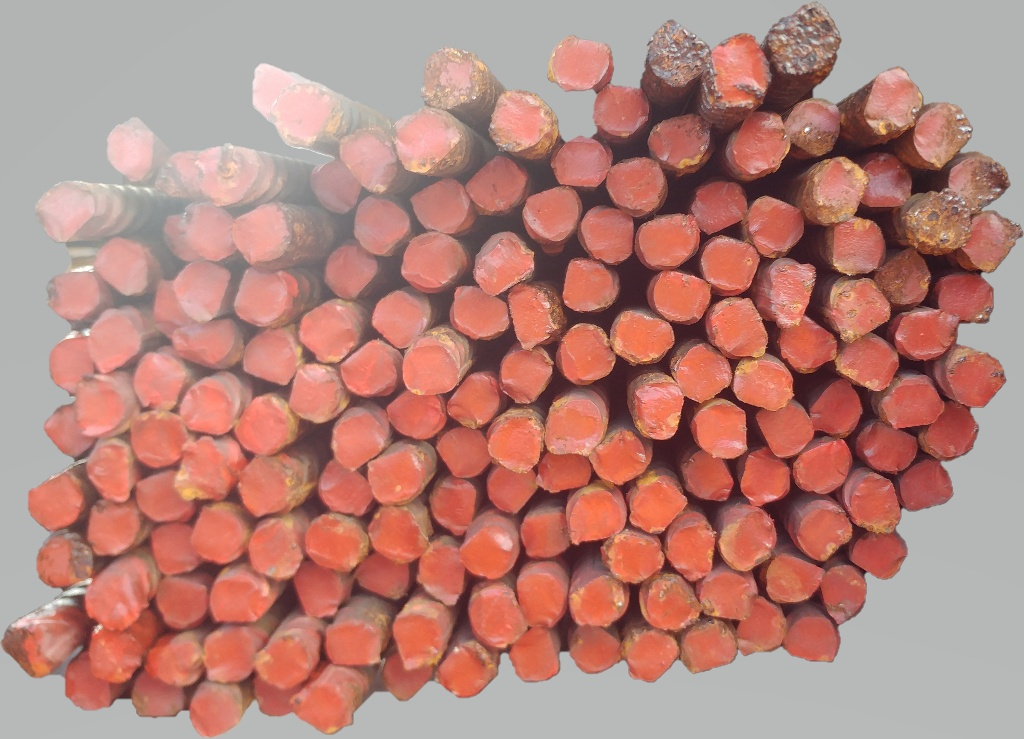dipstick: (771, 6, 877, 75), (709, 34, 770, 109), (392, 107, 458, 176), (178, 436, 244, 504), (420, 48, 490, 111), (1, 618, 67, 682), (962, 209, 1024, 275), (86, 568, 147, 634), (272, 85, 339, 145), (835, 331, 899, 393), (913, 104, 972, 171), (809, 154, 866, 223), (489, 91, 553, 152), (648, 21, 709, 85), (232, 266, 297, 326), (37, 178, 95, 244), (865, 67, 922, 134), (733, 110, 790, 176), (831, 279, 892, 340), (237, 396, 298, 456), (463, 156, 525, 215), (469, 587, 526, 651), (401, 232, 463, 290), (174, 260, 232, 322), (948, 157, 1012, 213), (235, 204, 293, 265), (300, 304, 358, 364), (908, 190, 966, 250), (676, 343, 733, 404), (197, 146, 259, 202), (608, 157, 667, 215), (410, 177, 470, 234), (242, 327, 299, 387), (559, 324, 616, 384), (474, 235, 535, 291), (749, 194, 804, 256), (649, 114, 712, 168), (948, 351, 1007, 408), (306, 516, 367, 571), (638, 216, 700, 270), (291, 364, 347, 423), (239, 456, 295, 515), (778, 318, 837, 374), (873, 247, 929, 306), (544, 400, 604, 455), (712, 299, 767, 359), (589, 428, 650, 482), (172, 323, 243, 369), (894, 308, 958, 359), (190, 680, 247, 737), (439, 644, 498, 699), (787, 95, 840, 156), (926, 398, 976, 462), (510, 283, 557, 351), (642, 575, 698, 632), (792, 439, 850, 494), (719, 511, 773, 570), (357, 195, 410, 255), (849, 529, 910, 581), (549, 39, 611, 90), (87, 627, 144, 682), (569, 490, 626, 545), (318, 460, 372, 518), (701, 238, 759, 292), (630, 479, 688, 533), (249, 521, 302, 580), (769, 260, 817, 325), (293, 687, 358, 735), (612, 313, 675, 362), (460, 524, 516, 579), (797, 506, 853, 561), (193, 508, 247, 565), (369, 508, 426, 562), (810, 379, 863, 437), (107, 117, 155, 181), (77, 374, 127, 435), (295, 559, 345, 620), (879, 382, 945, 428), (180, 204, 236, 258), (94, 238, 148, 294), (582, 206, 636, 262), (367, 453, 424, 506), (525, 187, 582, 240), (593, 85, 651, 137), (28, 474, 80, 532), (332, 412, 384, 470), (501, 347, 552, 406), (732, 361, 794, 409), (758, 401, 813, 455), (563, 259, 616, 315), (693, 180, 749, 233), (850, 476, 903, 532), (938, 272, 994, 325), (134, 352, 186, 409), (138, 471, 195, 523), (653, 271, 710, 323), (34, 537, 93, 587), (743, 446, 792, 506), (420, 543, 465, 608), (324, 245, 378, 299), (510, 627, 562, 683), (209, 575, 267, 625), (699, 572, 757, 622), (551, 138, 610, 187), (766, 554, 825, 603), (182, 381, 235, 435), (694, 404, 748, 457), (453, 286, 508, 338), (131, 416, 186, 468), (450, 373, 502, 428), (490, 417, 542, 472), (858, 155, 913, 207), (573, 576, 630, 626), (899, 457, 952, 510), (427, 478, 477, 534), (737, 599, 785, 657), (860, 426, 919, 473), (821, 564, 867, 624), (833, 221, 885, 274), (787, 613, 840, 665), (50, 336, 95, 397), (46, 272, 102, 321), (90, 314, 139, 370), (517, 571, 566, 627), (255, 637, 311, 686), (401, 344, 458, 392), (389, 392, 446, 440), (156, 577, 208, 629), (628, 632, 680, 684), (373, 291, 423, 345), (437, 428, 491, 478), (149, 524, 203, 574), (634, 382, 683, 437), (608, 533, 663, 582), (65, 654, 112, 711), (345, 344, 397, 395), (682, 449, 733, 501), (310, 160, 360, 213), (668, 525, 716, 580), (395, 612, 443, 667), (148, 639, 204, 686), (355, 554, 411, 601), (88, 505, 139, 555), (133, 671, 186, 719), (87, 444, 132, 500), (567, 626, 623, 671), (522, 507, 570, 559), (685, 625, 738, 672), (327, 622, 381, 667), (205, 632, 253, 682)
